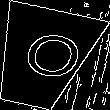O_S: (6, 27, 79, 88)
